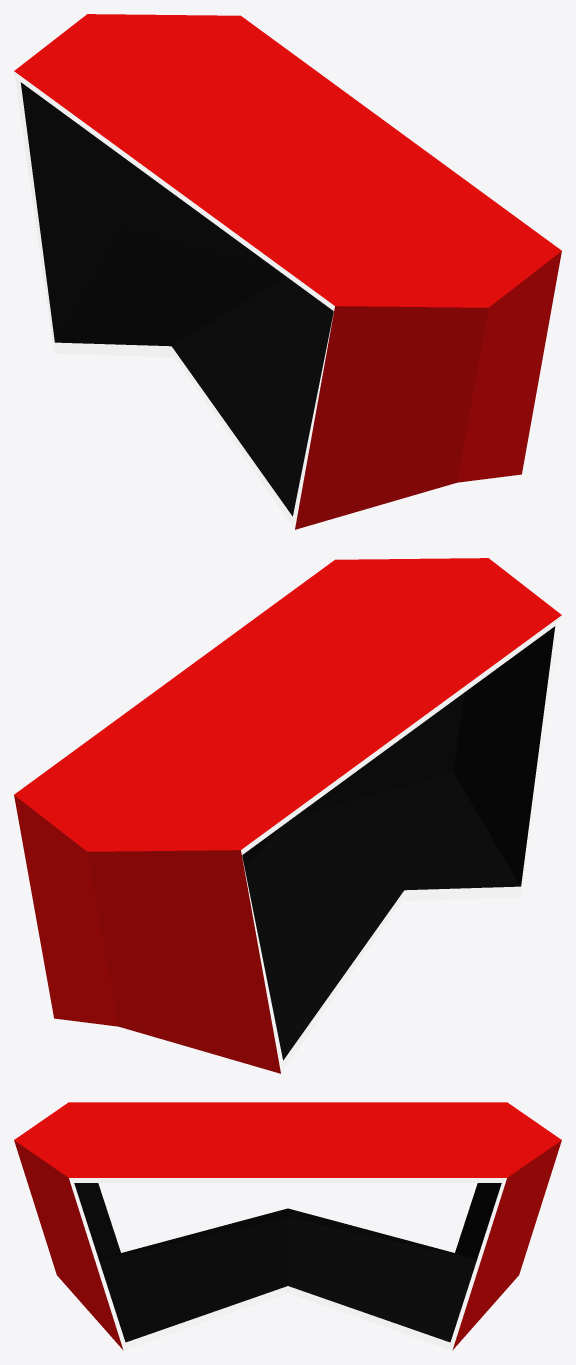
Rendered from Table_3.glb.
3 renders of one model, top to bottom at view 1: azimuth 30°, elevation 25°; view 2: azimuth 150°, elevation 25°; view 3: azimuth 270°, elevation 25°, orthographic. The views are drawn at different scales.
Parts seen in each view (by area): view 1: Table 3; view 2: Table 3; view 3: Table 3.
Part boxes in pixels (left/top/right/bottom): Table 3: left=14, top=14, right=561, bottom=529; Table 3: left=14, top=558, right=561, bottom=1073; Table 3: left=14, top=1102, right=561, bottom=1350.
Size of what is drawn, in the model's own units: 0.8801 by 0.9144 by 2.63.
Materials: 2 (1 with a texture image).
